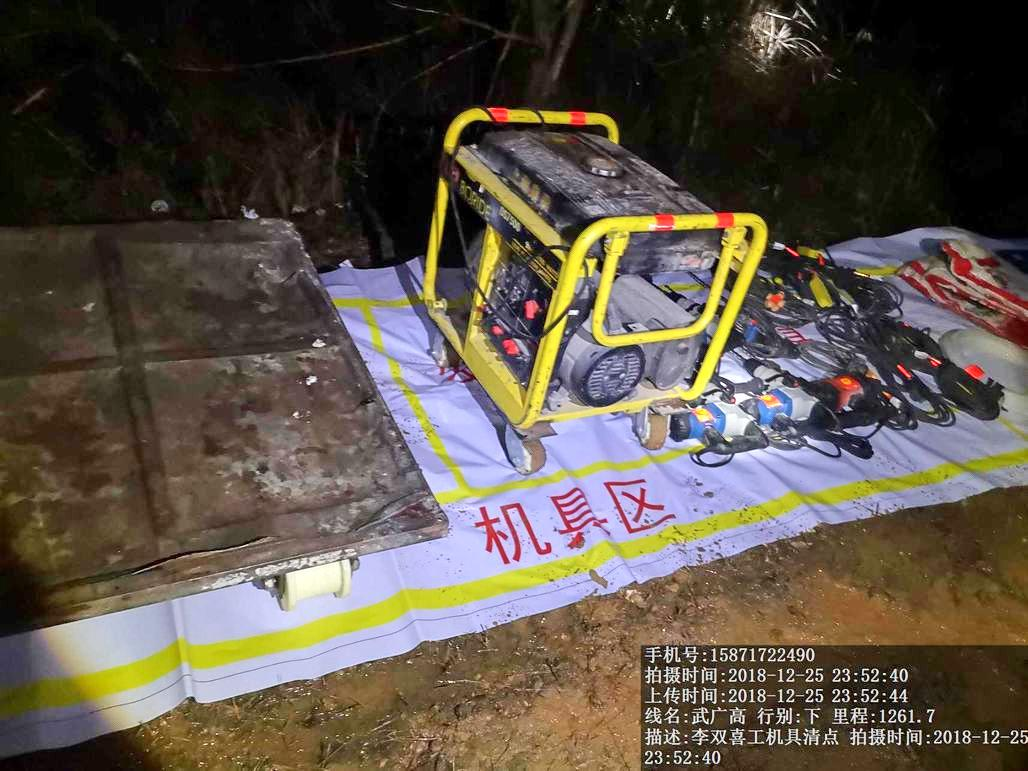DJ: (413, 102, 760, 474)
